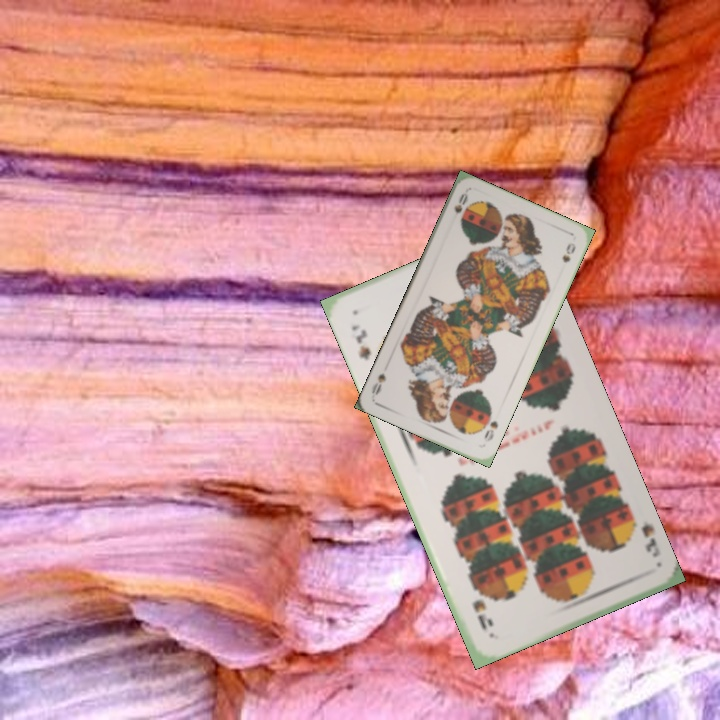S9: (627, 516, 663, 560), (347, 320, 374, 363)
SO: (480, 407, 501, 445), (450, 189, 471, 216)
